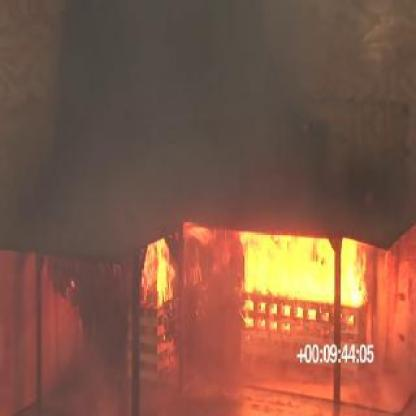Fire: (136, 234, 371, 332)
Smoke: (33, 0, 415, 192)
